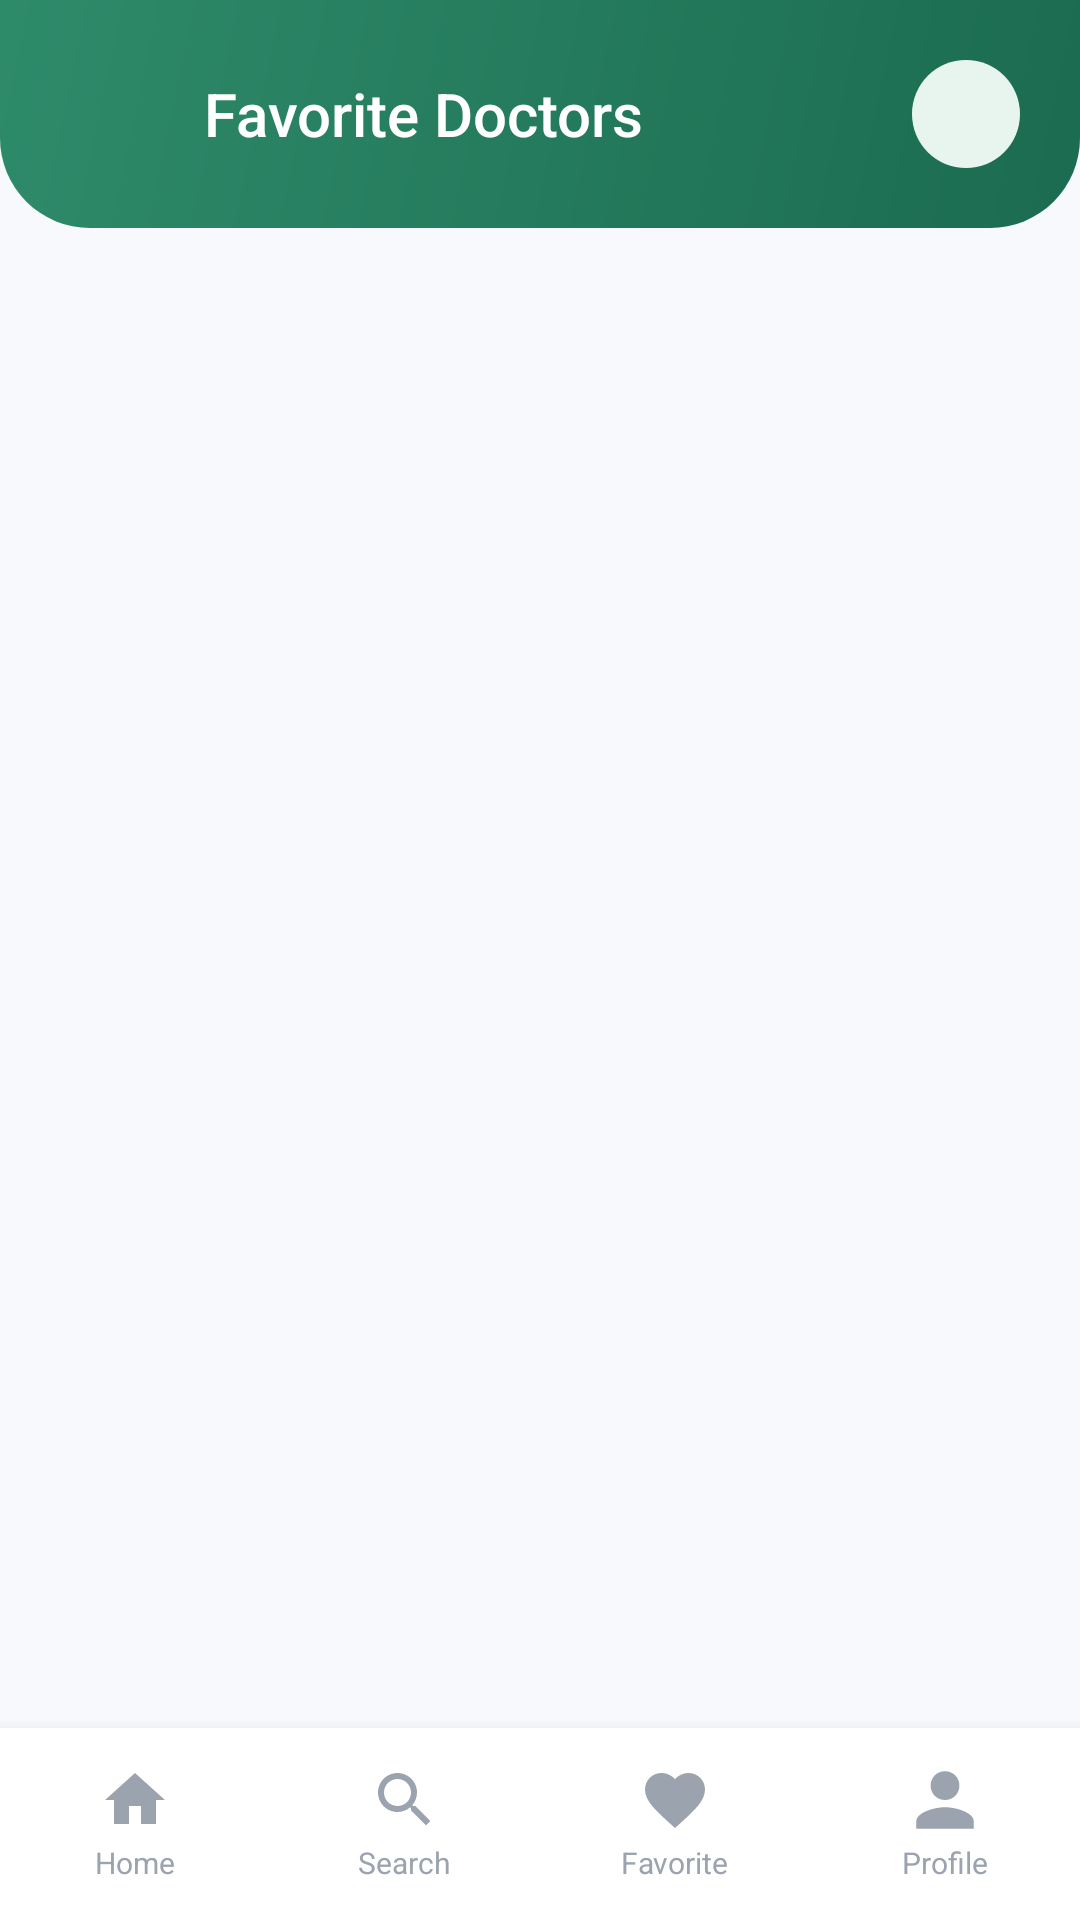

Named icons in this screenshot (1080*1920) and their centers, point (x, y):
person: point (945, 1800)
